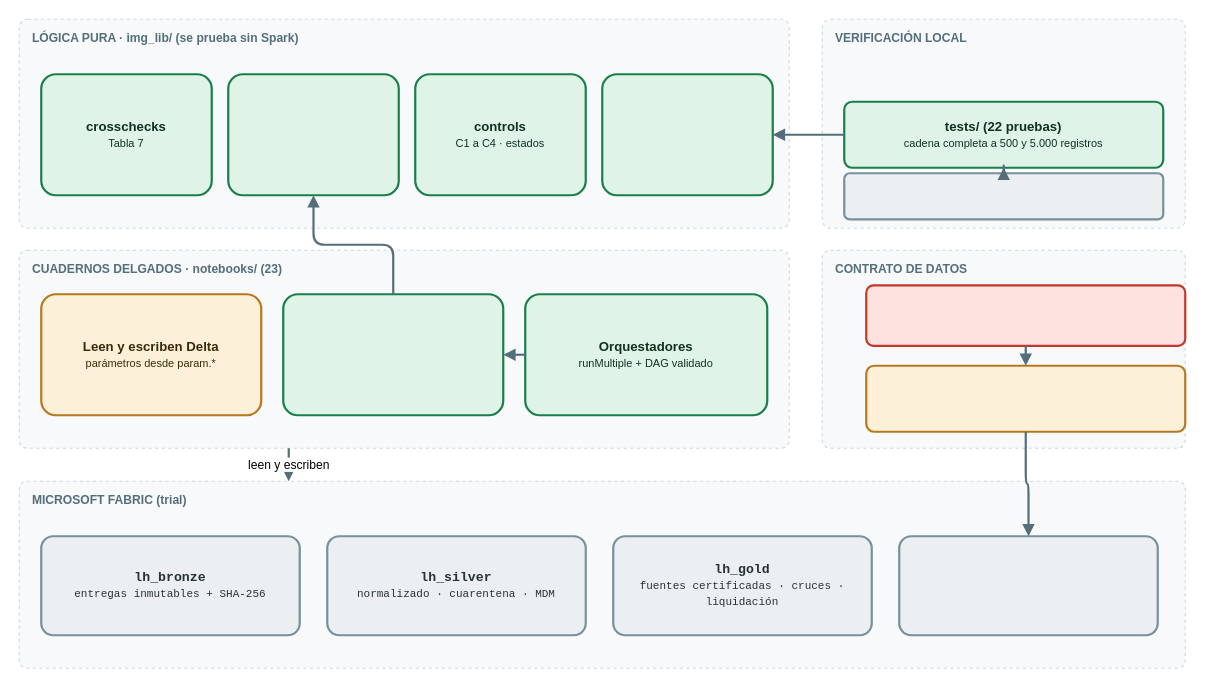
Image size: 1206x688. Some labels were removed from this diagram. Here are the shapes that lost their labels. From the top down, the centre of each, then its label:
[313,134]: settlement focalizar · titular · monto · listados
[687,134]: dag · metrics runMultiple · error · auditoría
[1003,196]: generator/ datos sintéticos + verdad conocida
[1025,315]: Parámetros ilustrativos is_illustrative = 1 (no es regla real)
[393,354]: Llaman a img_lib sin reglas de negocio propias
[1025,398]: ddl/ ctl.* y param.* con vigencia
[1028,585]: lh_control bitácora · aprobaciones · param.*
